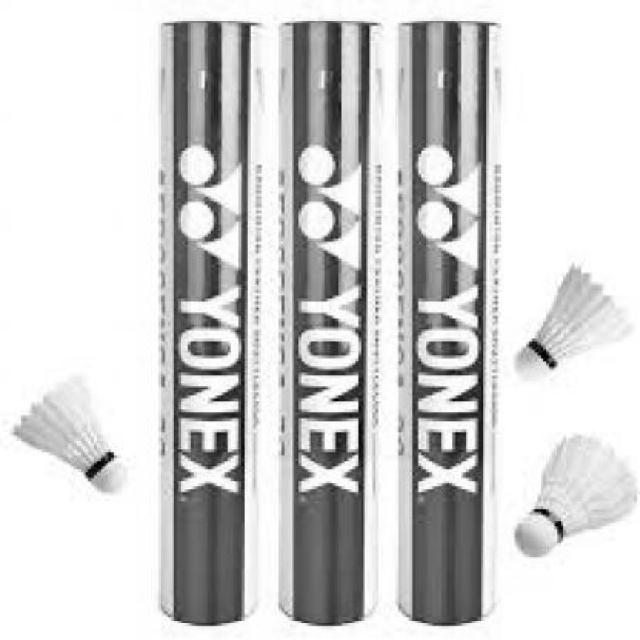Shuttlecock: (512, 432, 640, 560), (9, 374, 131, 500), (512, 260, 632, 386)
